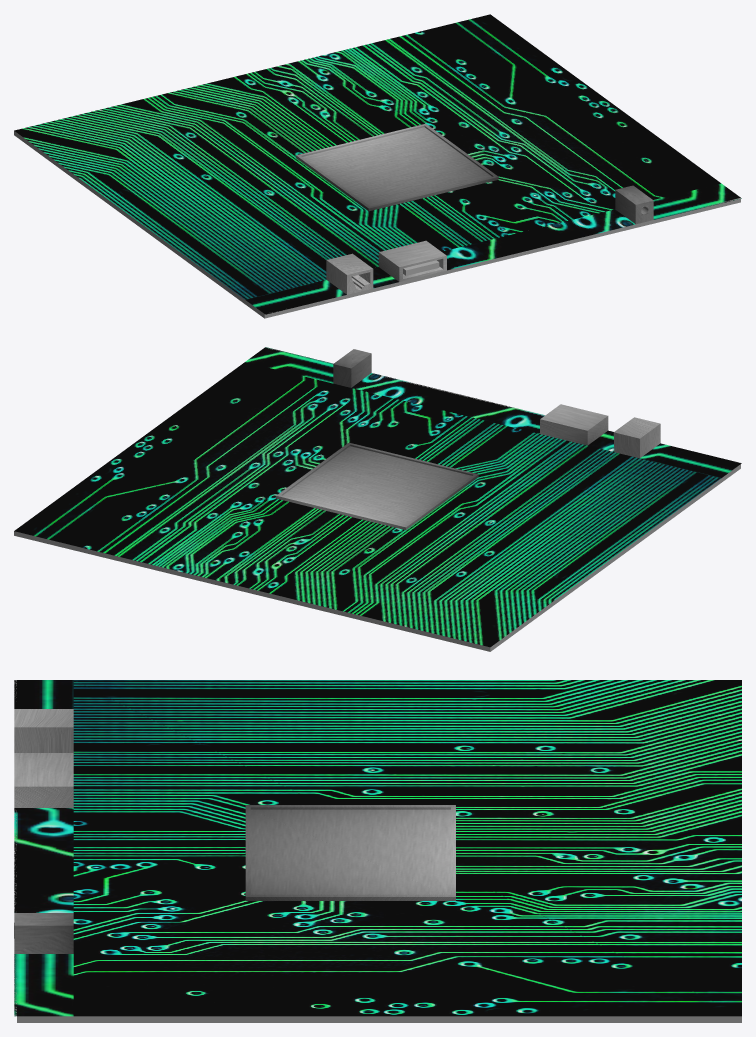
File: motherboard2.obj
3 renders of one model, top to bottom at view 1: azimuth 30°, elevation 25°; view 2: azimuth 150°, elevation 25°; view 3: azimuth 270°, elevation 25°, orthographic. The views are drawn at different scales.
Parts seen in each view (by area): view 1: Cube; view 2: Cube; view 3: Cube.
Part boxes in pixels (x1,y1,x2,y2): Cube: [14, 14, 741, 318]; Cube: [14, 347, 741, 651]; Cube: [14, 680, 741, 1022].
Bounding box in the file's own units: 18 × 0.879 × 16.47.
3 materials, 2 textured.
